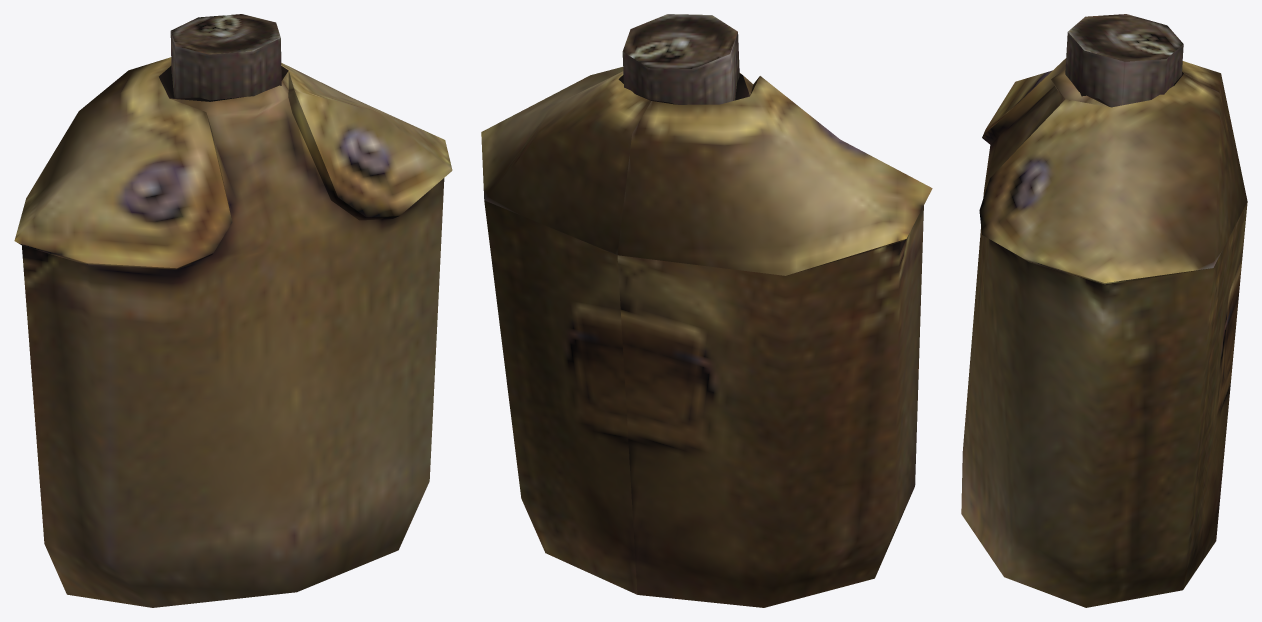
Rendered from flask.FBX.
3 renders of one model, left to right at view 1: azimuth 30°, elevation 25°; view 2: azimuth 150°, elevation 25°; view 3: azimuth 270°, elevation 25°, orthographic. The views are drawn at different scales.
Visible parts, largest first — view 1: flask; view 2: flask; view 3: flask.
Boxes of the visible parts, bbox=[...] form: flask: bbox=[14, 14, 452, 607]; flask: bbox=[481, 14, 932, 607]; flask: bbox=[961, 14, 1247, 607].
Size of the model in its own units: 0.1482 by 0.088 by 0.1753.
